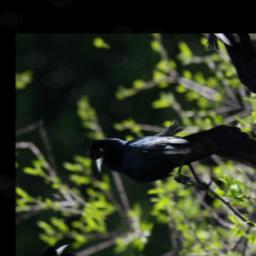Crow: (80, 73, 256, 233)
